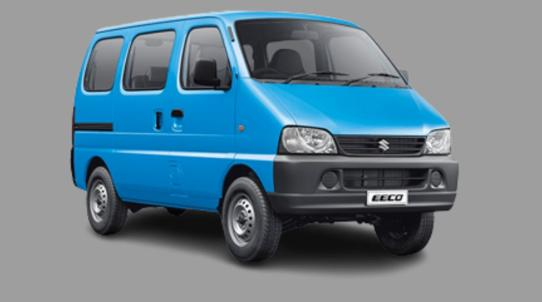van: (51, 15, 471, 270)
